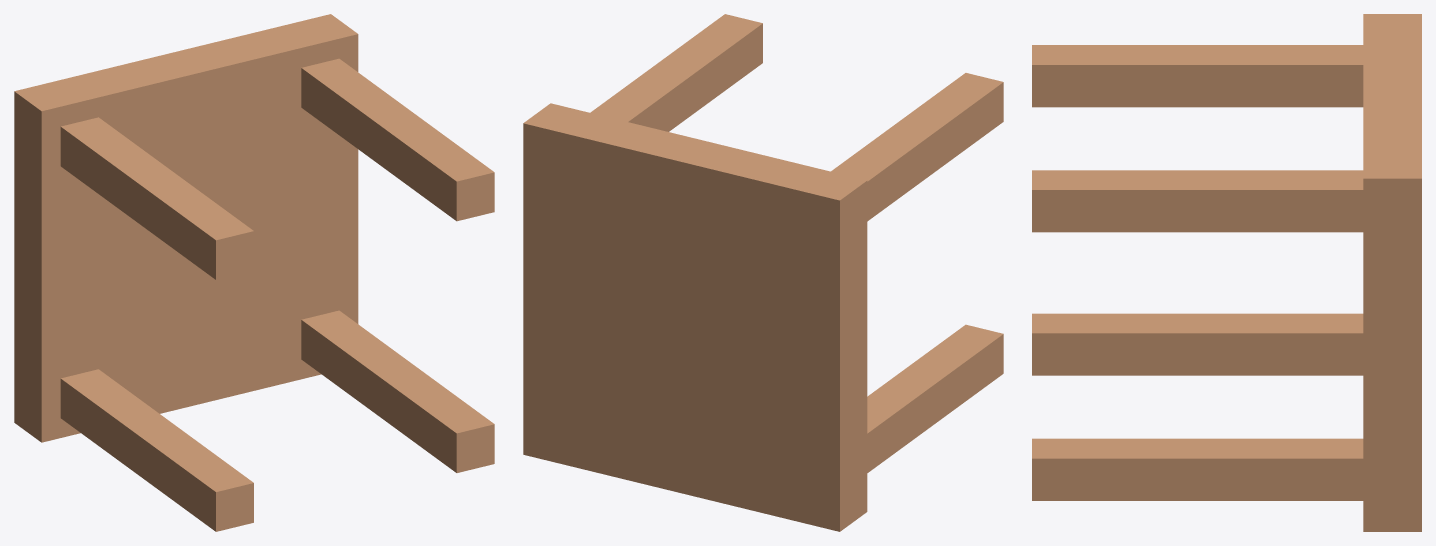
File: acacia_table_held.gltf
The picture shows the model from 3 angles, left to right: view 1: azimuth 30°, elevation 25°; view 2: azimuth 150°, elevation 25°; view 3: azimuth 270°, elevation 25°; orthographic projection. The views are drawn at different scales.
Visible parts, largest first — view 1: building_acacia_table_held; view 2: building_acacia_table_held; view 3: building_acacia_table_held.
Boxes of the visible parts, <box> form: building_acacia_table_held: <box>14,14,494,531</box>; building_acacia_table_held: <box>523,14,1003,531</box>; building_acacia_table_held: <box>1032,14,1421,531</box>.
Bounding box in the file's own units: 0.16 × 0.16 × 0.16.
